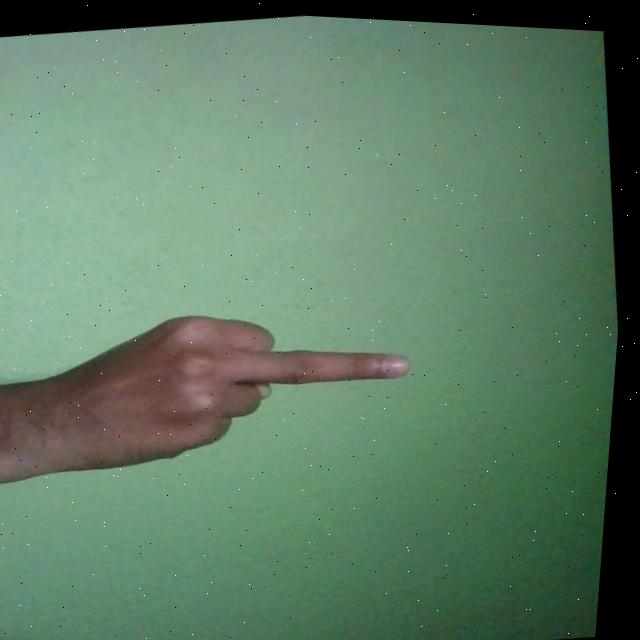Middle Finger: (0, 277, 429, 493)
